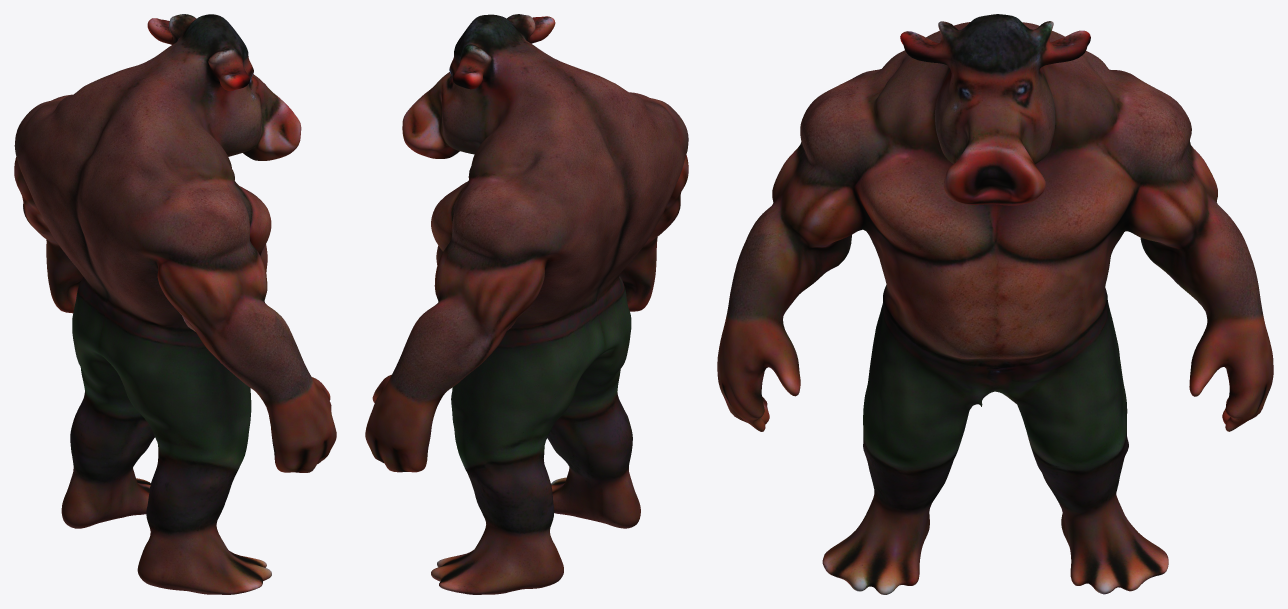
File: pig.glb
3 renders of one model, left to right at view 1: azimuth 30°, elevation 25°; view 2: azimuth 150°, elevation 25°; view 3: azimuth 270°, elevation 25°, orthographic. The views are drawn at different scales.
Visible parts, largest first — view 1: model; view 2: model; view 3: model.
Boxes of the visible parts, box(x1,y1,x2,y2) form: model: box(14, 14, 336, 594); model: box(365, 14, 688, 594); model: box(717, 14, 1273, 594).
Bounding box in the file's own units: 0.7372 × 1.69 × 1.47.
Materials: 1 (1 with a texture image).
